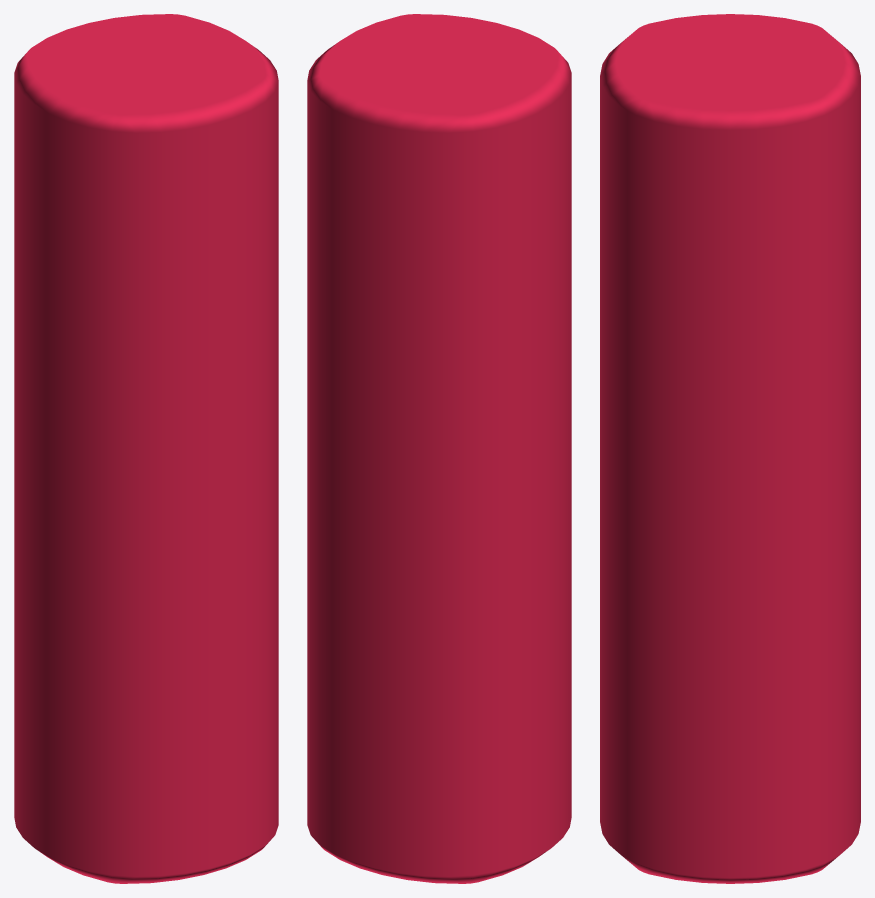
File: 1x3x1_Round.fbx
3 renders of one model, left to right at view 1: azimuth 30°, elevation 25°; view 2: azimuth 150°, elevation 25°; view 3: azimuth 270°, elevation 25°, orthographic.
Parts seen in each view (by area): view 1: 1x3x1_Round; view 2: 1x3x1_Round; view 3: 1x3x1_Round.
Boxes of the visible parts, <box> form: 1x3x1_Round: <box>14,14,278,883</box>; 1x3x1_Round: <box>307,14,571,883</box>; 1x3x1_Round: <box>600,14,860,883</box>.
Size of the model in its own units: 0.0917 by 0.3 by 0.0917.
1 material, 1 textured.
